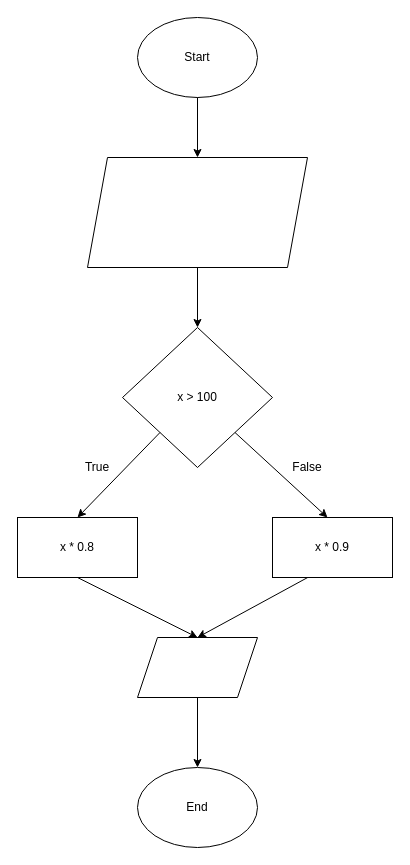
Image size: 410x865. Some labels were removed from this diagram. Here are the shapes that lost their labels. From the top down, the centre of each, then its label:
At [197,212]: "Get price imput and place in x".
At [197,667]: "Print x".
